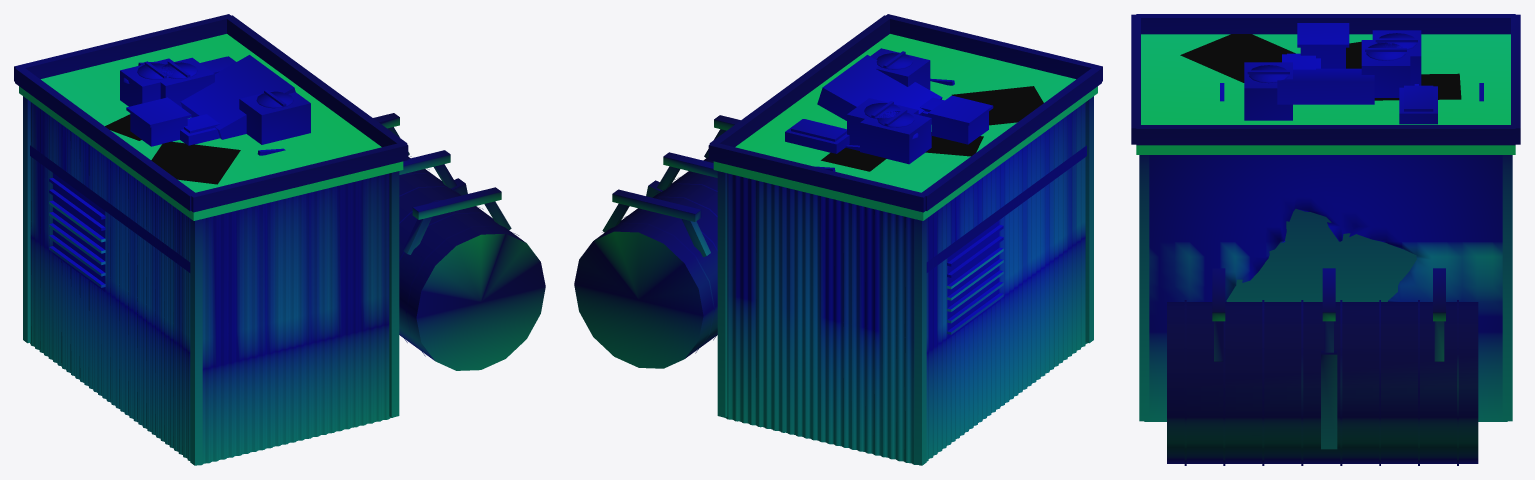
File: valvestation_damaged.glb
The picture shows the model from 3 angles, left to right: view 1: azimuth 30°, elevation 25°; view 2: azimuth 150°, elevation 25°; view 3: azimuth 270°, elevation 25°; orthographic projection. The views are drawn at different scales.
Parts seen in each view (by area): view 1: lod0; view 2: lod0; view 3: lod0.
Boxes of the visible parts, x1,y1,x2,y2 form: lod0: [14, 14, 545, 465]; lod0: [574, 14, 1102, 465]; lod0: [1131, 14, 1520, 465].
Size of what is drawn, in the model's own units: 14.55 by 10.88 by 12.
